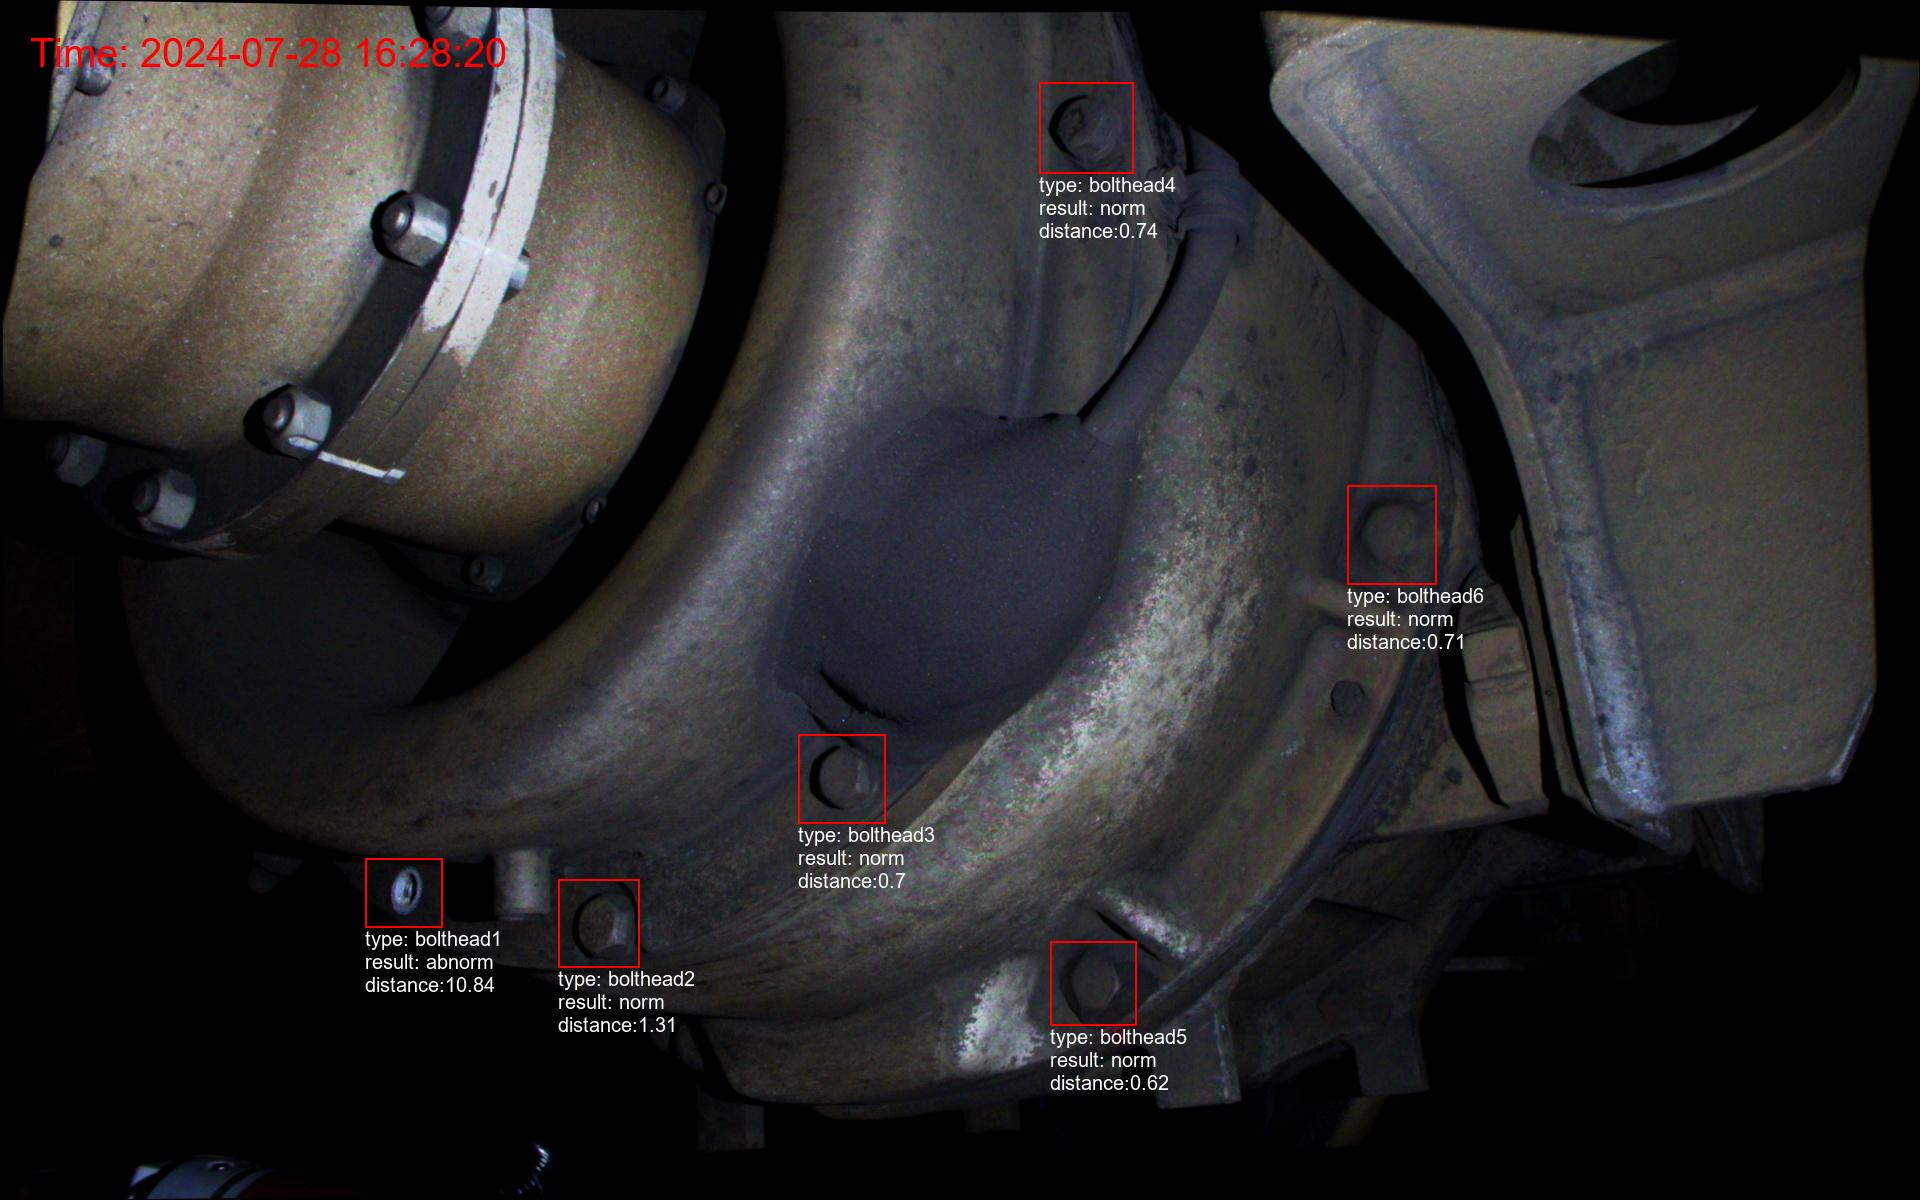bolthead1: (375, 868, 433, 917)
bolthead2: (570, 889, 630, 957)
bolthead3: (809, 744, 875, 813)
bolthead4: (1037, 82, 1129, 170)
bolthead5: (1060, 951, 1127, 1015)
bolthead6: (1357, 495, 1427, 574)
